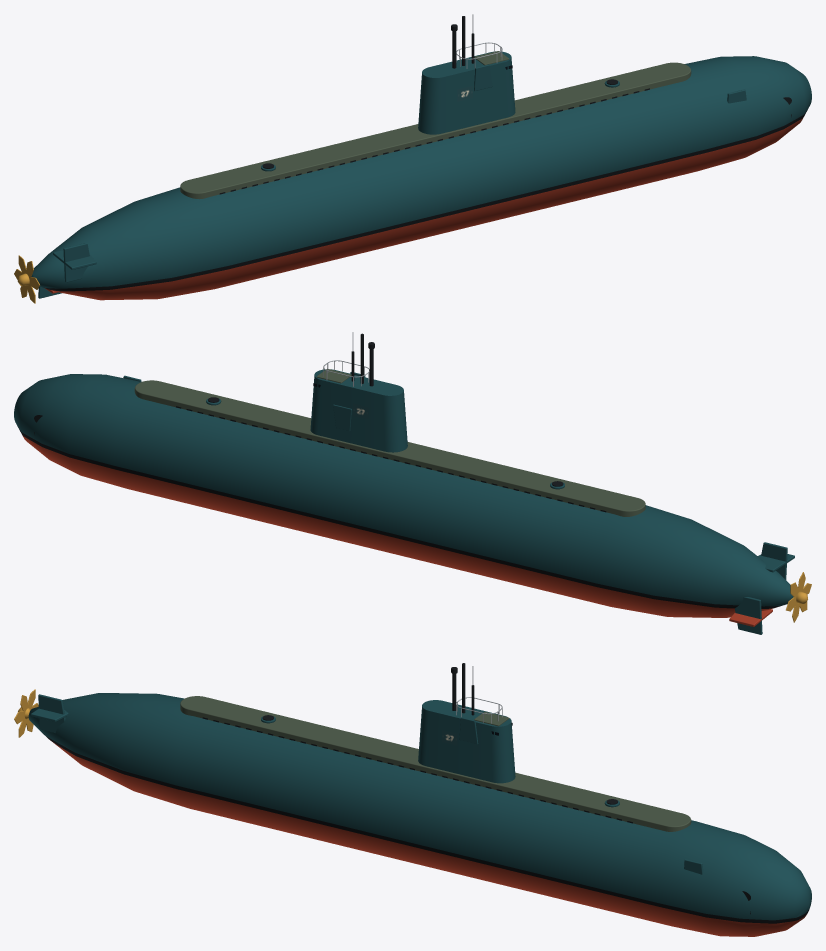
File: SubmarineExterior.glb
3 views of the same model, one above another, from view 1: azimuth 30°, elevation 25°; view 2: azimuth 150°, elevation 25°; view 3: azimuth 330°, elevation 25° (orthographic).
Visible parts, largest first — view 1: SubmarineExterior_Body, SubmarineExterior_Propeller; view 2: SubmarineExterior_Body, SubmarineExterior_Propeller; view 3: SubmarineExterior_Body, SubmarineExterior_Propeller.
Part boxes in pixels (x1,y1,x2,y2): SubmarineExterior_Body: (31, 14, 811, 300); SubmarineExterior_Propeller: (14, 255, 39, 303); SubmarineExterior_Body: (14, 332, 794, 634); SubmarineExterior_Propeller: (786, 572, 811, 622); SubmarineExterior_Body: (28, 663, 811, 936); SubmarineExterior_Propeller: (14, 689, 38, 737).
Size of the model in its own units: 50.85 by 12.6 by 6.
Materials: 8 (1 with a texture image).
